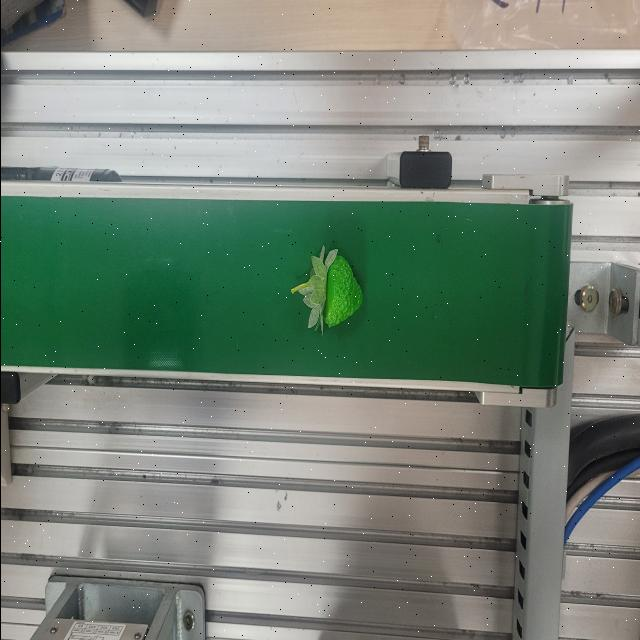Small Unripe Strawberry: (288, 244, 364, 338)
